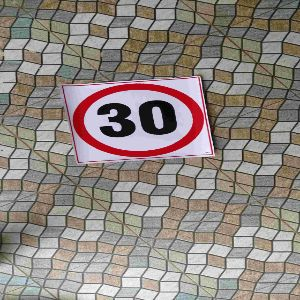speedlimit30: (66, 82, 209, 159)
